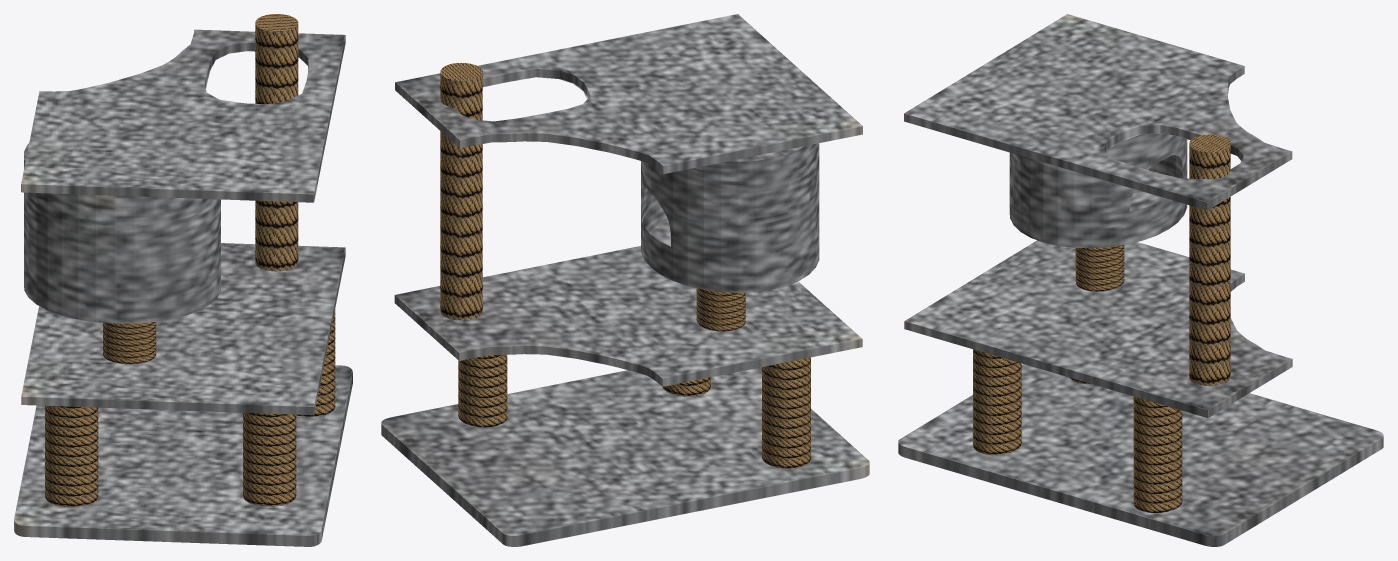
The model's file is house5.gltf.
3 views of the same model, side by side, from view 1: azimuth 30°, elevation 25°; view 2: azimuth 150°, elevation 25°; view 3: azimuth 270°, elevation 25° (orthographic). The views are drawn at different scales.
Visible parts, largest first — view 1: Плоскость.002, Плоскость.001, Плоскость, Цилиндр.004, Цилиндр.005, Цилиндр, Цилиндр.001, Цилиндр.003, Цилиндр.002; view 2: Плоскость, Плоскость.002, Плоскость.001, Цилиндр.004, Цилиндр.005, Цилиндр, Цилиндр.002, Цилиндр.003, Цилиндр.001; view 3: Плоскость, Плоскость.002, Плоскость.001, Цилиндр.004, Цилиндр.005, Цилиндр.002, Цилиндр.001, Цилиндр.003.
Part boxes in pixels (box(x1,y1,x2,y2)): Плоскость.002: box(21, 29, 345, 202); Плоскость.001: box(21, 243, 345, 415); Плоскость: box(14, 365, 352, 546); Цилиндр.004: box(24, 143, 220, 323); Цилиндр.005: box(255, 14, 298, 271); Цилиндр: box(45, 405, 98, 507); Цилиндр.001: box(243, 412, 296, 506); Цилиндр.003: box(103, 322, 156, 364); Цилиндр.002: box(296, 309, 335, 416); Плоскость: box(381, 367, 869, 546); Плоскость.002: box(395, 14, 862, 174); Плоскость.001: box(394, 246, 862, 386); Цилиндр.004: box(641, 143, 819, 292); Цилиндр.005: box(440, 63, 482, 320); Цилиндр: box(762, 357, 810, 468); Цилиндр.002: box(458, 355, 507, 427); Цилиндр.003: box(696, 288, 745, 331); Цилиндр.001: box(662, 377, 710, 396); Плоскость: box(898, 364, 1383, 546); Плоскость.002: box(904, 14, 1292, 210); Плоскость.001: box(904, 240, 1292, 417); Цилиндр.004: box(1009, 133, 1187, 248); Цилиндр.005: box(1189, 134, 1230, 385); Цилиндр.002: box(1133, 396, 1182, 512); Цилиндр.001: box(973, 349, 1021, 455); Цилиндр.003: box(1075, 245, 1124, 291).
Bounding box in the file's own units: 4.43 × 3.89 × 4.66.
9 materials, 9 textured.
